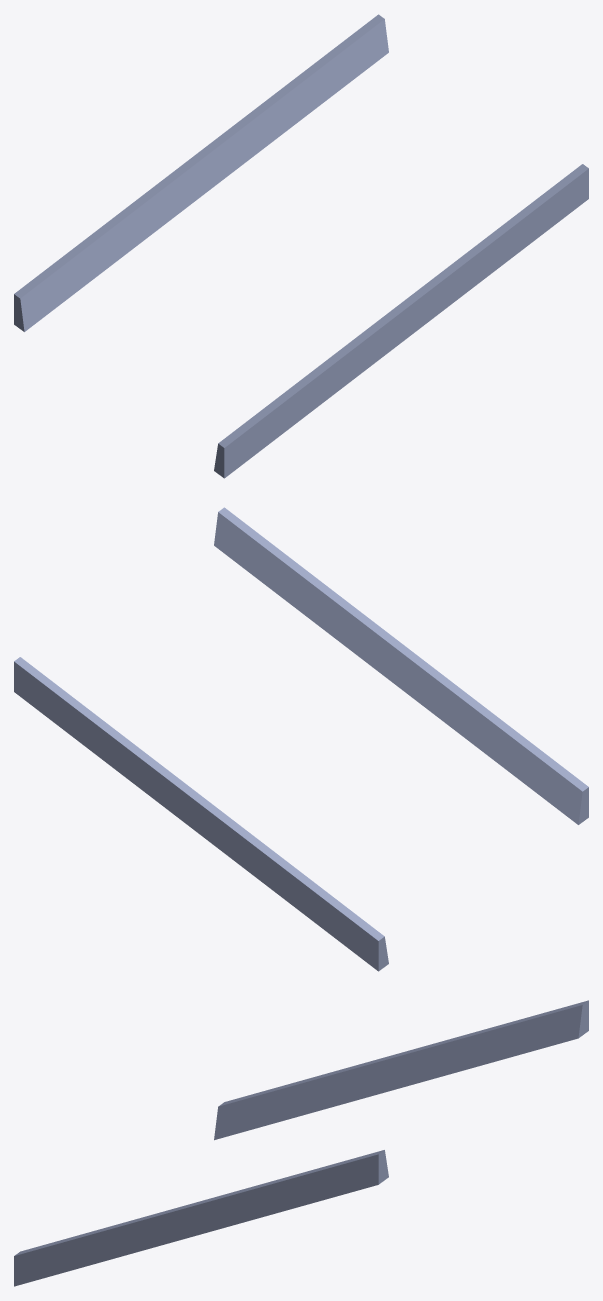
Rendered from road-slant-high-barrier.glb.
3 renders of one model, top to bottom at view 1: azimuth 30°, elevation 25°; view 2: azimuth 150°, elevation 25°; view 3: azimuth 330°, elevation 25°, orthographic.
Visible parts, largest first — view 1: road-slant-high-barrier; view 2: road-slant-high-barrier; view 3: road-slant-high-barrier.
Boxes of the visible parts, box(x1,y1,x2,y2) form: road-slant-high-barrier: box(14, 14, 588, 478); road-slant-high-barrier: box(14, 507, 588, 971); road-slant-high-barrier: box(14, 1000, 588, 1286).
Size of the model in its own units: 1 by 0.58 by 1.
Materials: 1 (1 with a texture image).
